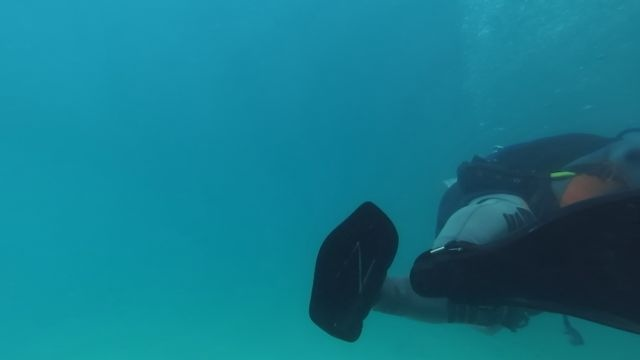Diver: (284, 108, 638, 354)
